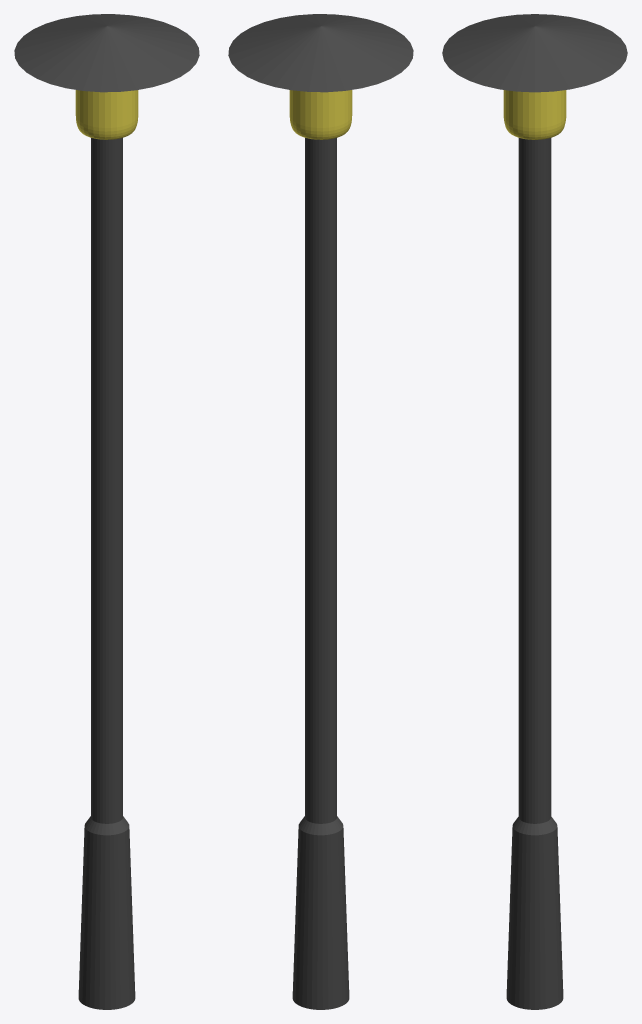
The model's file is TieLamppuV3.fbx.
3 views of the same model, side by side, from view 1: azimuth 30°, elevation 25°; view 2: azimuth 150°, elevation 25°; view 3: azimuth 270°, elevation 25° (orthographic).
Parts seen in each view (by area): view 1: Tanko, Varjostin, Lamppu; view 2: Tanko, Varjostin, Lamppu; view 3: Tanko, Varjostin, Lamppu.
Boxes of the visible parts, x1=… form: Tanko: x1=78, y1=138, x2=135, y2=1009; Varjostin: x1=14, y1=14, x2=199, y2=92; Lamppu: x1=75, y1=90, x2=138, y2=139; Tanko: x1=292, y1=138, x2=349, y2=1009; Varjostin: x1=228, y1=14, x2=413, y2=92; Lamppu: x1=289, y1=90, x2=352, y2=139; Tanko: x1=506, y1=138, x2=563, y2=1009; Varjostin: x1=442, y1=14, x2=627, y2=92; Lamppu: x1=503, y1=90, x2=566, y2=139.
Size of the model in its own units: 48.86 by 282 by 48.86.
